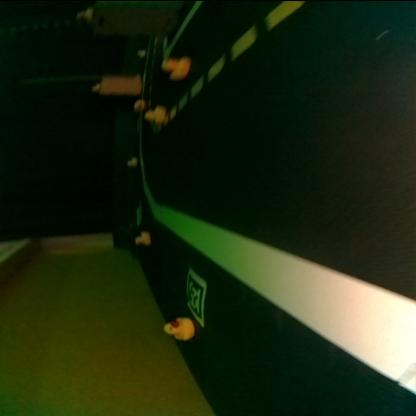Duckie: (163, 316, 194, 338), (160, 56, 188, 77), (144, 104, 165, 122), (135, 230, 149, 244), (76, 7, 90, 19), (126, 156, 136, 164), (133, 99, 143, 106), (92, 83, 100, 89), (137, 49, 145, 54)
QR code: (186, 268, 204, 324), (134, 200, 142, 223)
